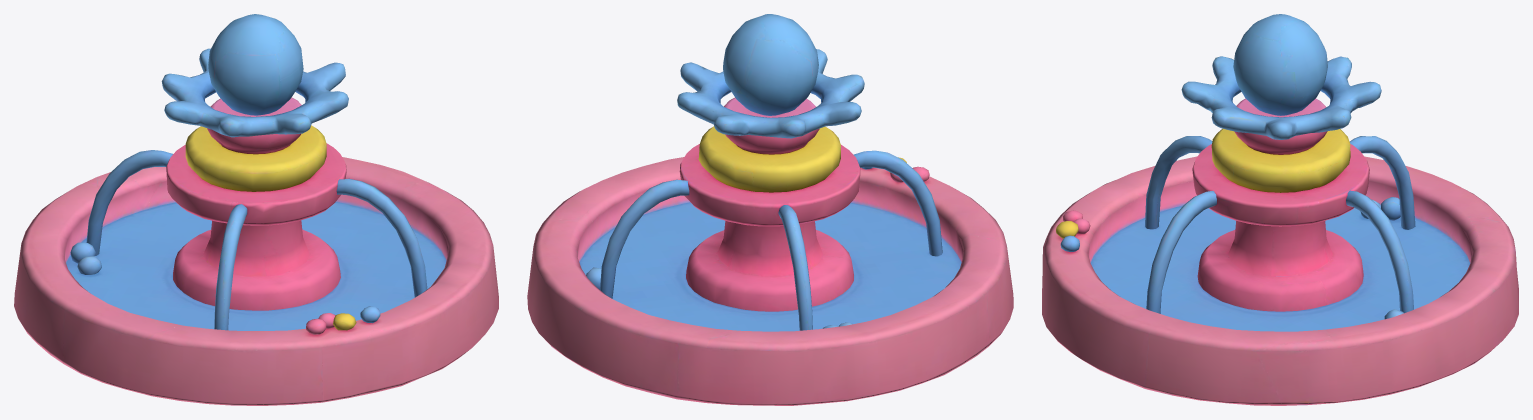
File: fountain.glb
The picture shows the model from 3 angles, left to right: view 1: azimuth 30°, elevation 25°; view 2: azimuth 150°, elevation 25°; view 3: azimuth 270°, elevation 25°; orthographic projection.
Visible parts, largest first — view 1: geometry_0; view 2: geometry_0; view 3: geometry_0.
Boxes of the visible parts, bbox=[...] form: geometry_0: bbox=[14, 14, 498, 405]; geometry_0: bbox=[527, 14, 1013, 405]; geometry_0: bbox=[1042, 14, 1518, 405].
Size of the model in its own units: 1 by 0.666 by 1.
1 material, 1 textured.
